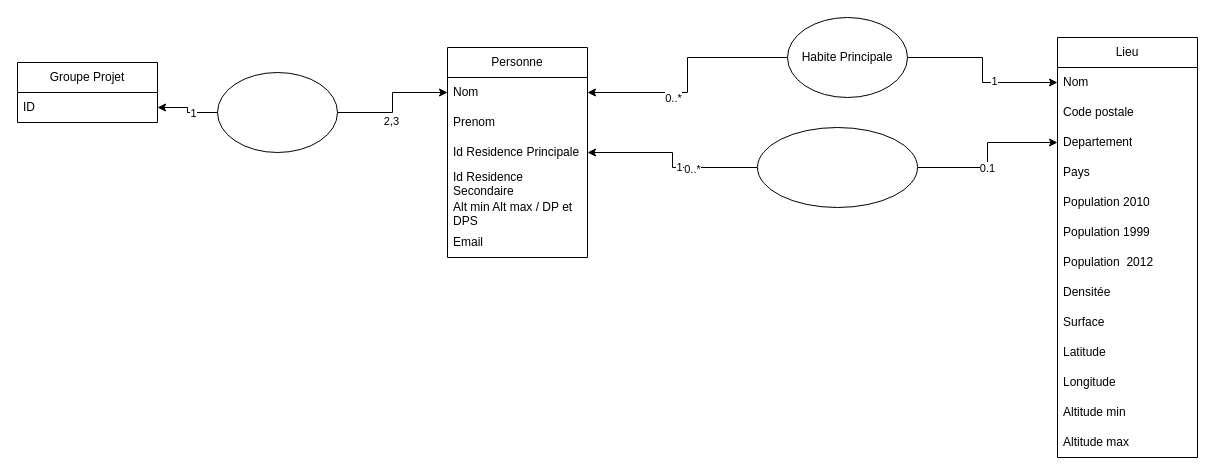
The diagram is 1215 pixels wide and 475 high, and some of its shapes have lost their labels. Here are the shapes that lost their labels. From the top down, the centre of each, then its label:
At point 277,112: "Appartient".
At point 837,167: "habite secondaire".
